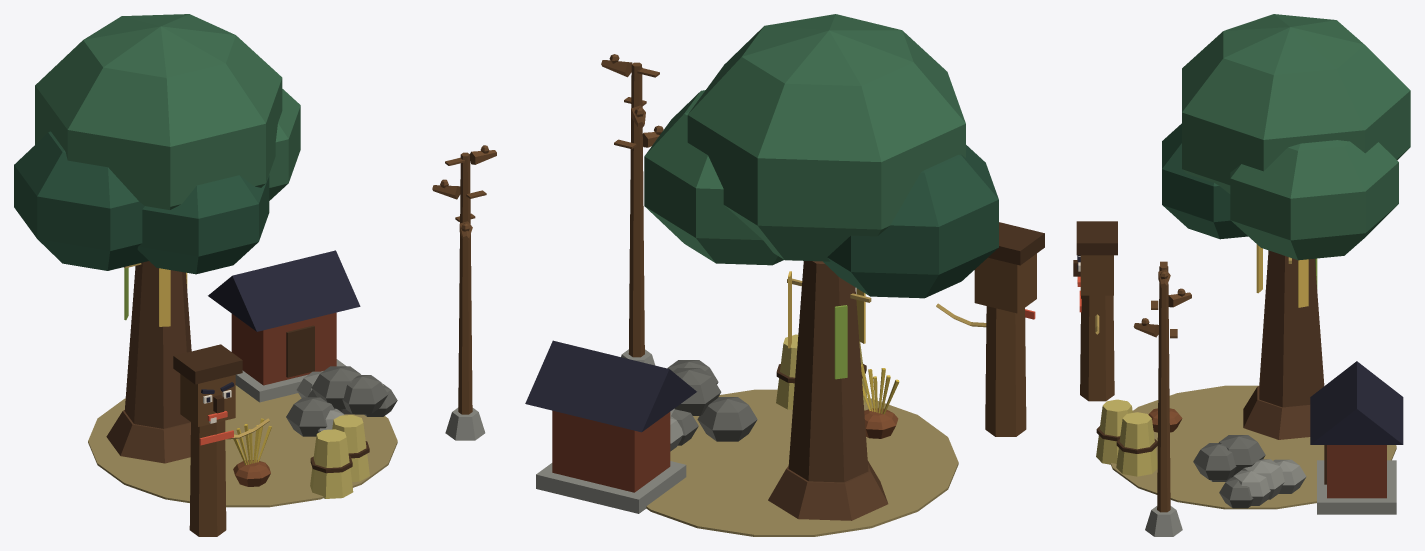
The model's file is prop_seonangdang_boritdeul.glb.
The picture shows the model from 3 angles, left to right: view 1: azimuth 30°, elevation 25°; view 2: azimuth 150°, elevation 25°; view 3: azimuth 270°, elevation 25°; orthographic projection. The views are drawn at different scales.
Visible parts, largest first — view 1: prop_seonangdang_boritdeul; view 2: prop_seonangdang_boritdeul; view 3: prop_seonangdang_boritdeul.
Boxes of the visible parts, box(x1,y1,x2,y2) form: prop_seonangdang_boritdeul: box(14, 14, 496, 536); prop_seonangdang_boritdeul: box(525, 14, 1044, 536); prop_seonangdang_boritdeul: box(1073, 14, 1410, 536).
Bounding box in the file's own units: 6.65 × 6.52 × 5.07.
